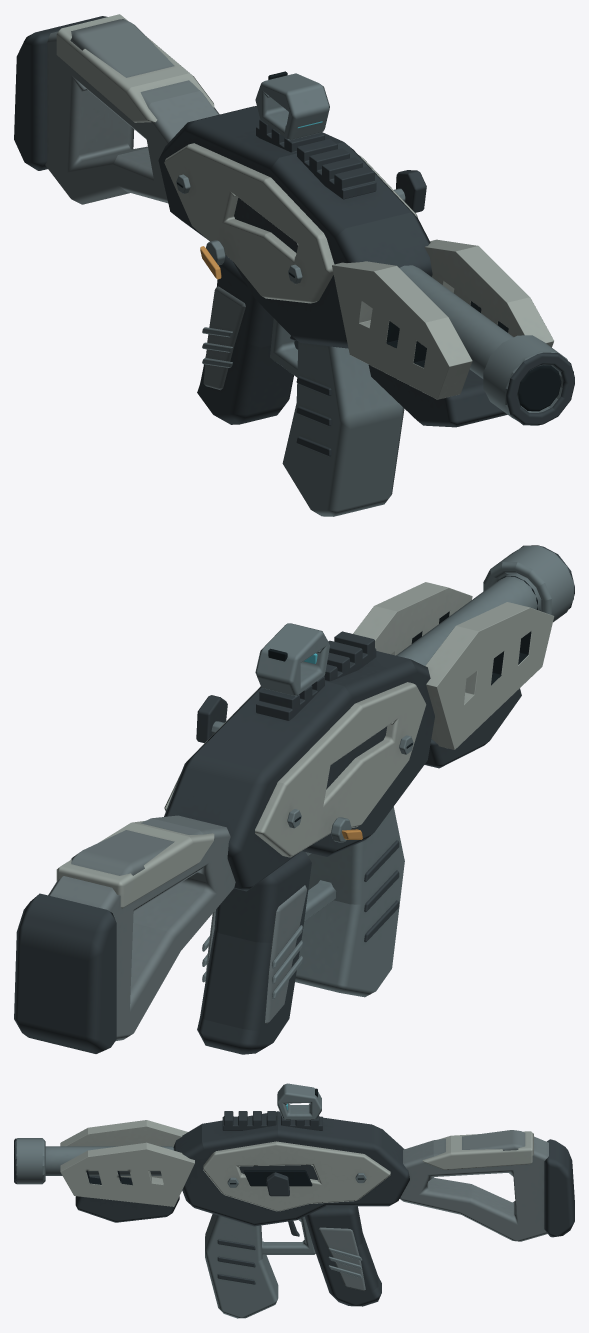
The model's file is rifle.glb.
The picture shows the model from 3 angles, top to bottom: view 1: azimuth 30°, elevation 25°; view 2: azimuth 150°, elevation 25°; view 3: azimuth 270°, elevation 25°; orthographic projection. The views are drawn at different scales.
Parts seen in each view (by area): view 1: rifle-ka12-arsenal; view 2: rifle-ka12-arsenal; view 3: rifle-ka12-arsenal.
Boxes of the visible parts, x1,y1,x2,y2 form: rifle-ka12-arsenal: (14, 14, 574, 516); rifle-ka12-arsenal: (14, 545, 574, 1054); rifle-ka12-arsenal: (14, 1083, 574, 1318).
Bounding box in the file's own units: 0.3435 × 0.7138 × 1.62.
1 material, 1 textured.
